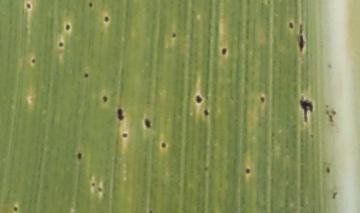tarspot: (298, 94, 315, 124), (297, 34, 306, 52), (141, 116, 152, 130), (116, 107, 125, 122), (194, 94, 203, 105), (331, 190, 339, 202), (63, 23, 72, 33), (24, 1, 33, 11), (286, 20, 295, 30), (220, 47, 229, 56), (75, 151, 83, 161), (170, 31, 178, 41), (298, 21, 304, 34), (159, 141, 167, 150), (102, 15, 110, 24), (57, 40, 65, 49), (101, 94, 108, 104), (259, 95, 265, 106), (325, 164, 331, 175), (323, 108, 331, 116), (326, 62, 334, 70), (244, 167, 251, 176), (328, 115, 335, 124), (121, 132, 128, 140), (82, 71, 89, 79), (202, 108, 209, 116), (330, 108, 337, 116), (96, 185, 102, 194), (202, 165, 209, 172), (308, 132, 315, 139), (12, 205, 18, 213), (30, 57, 36, 65), (88, 1, 94, 9), (147, 209, 155, 213), (89, 182, 95, 187)
